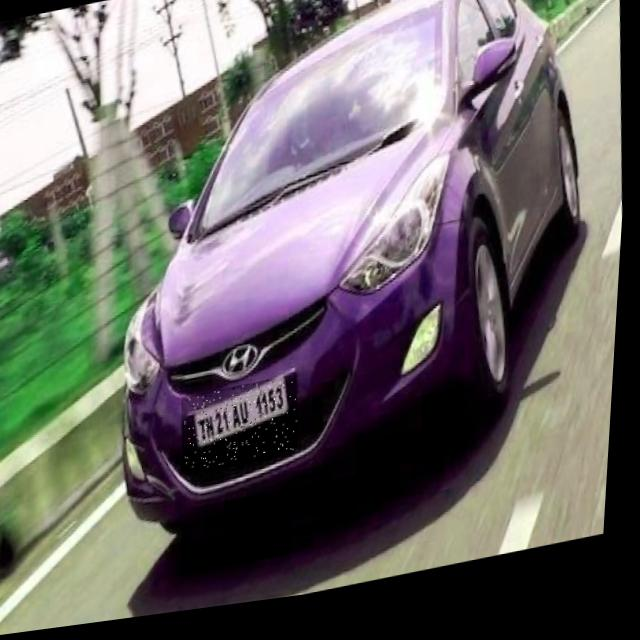license_plate: (183, 382, 307, 478)
